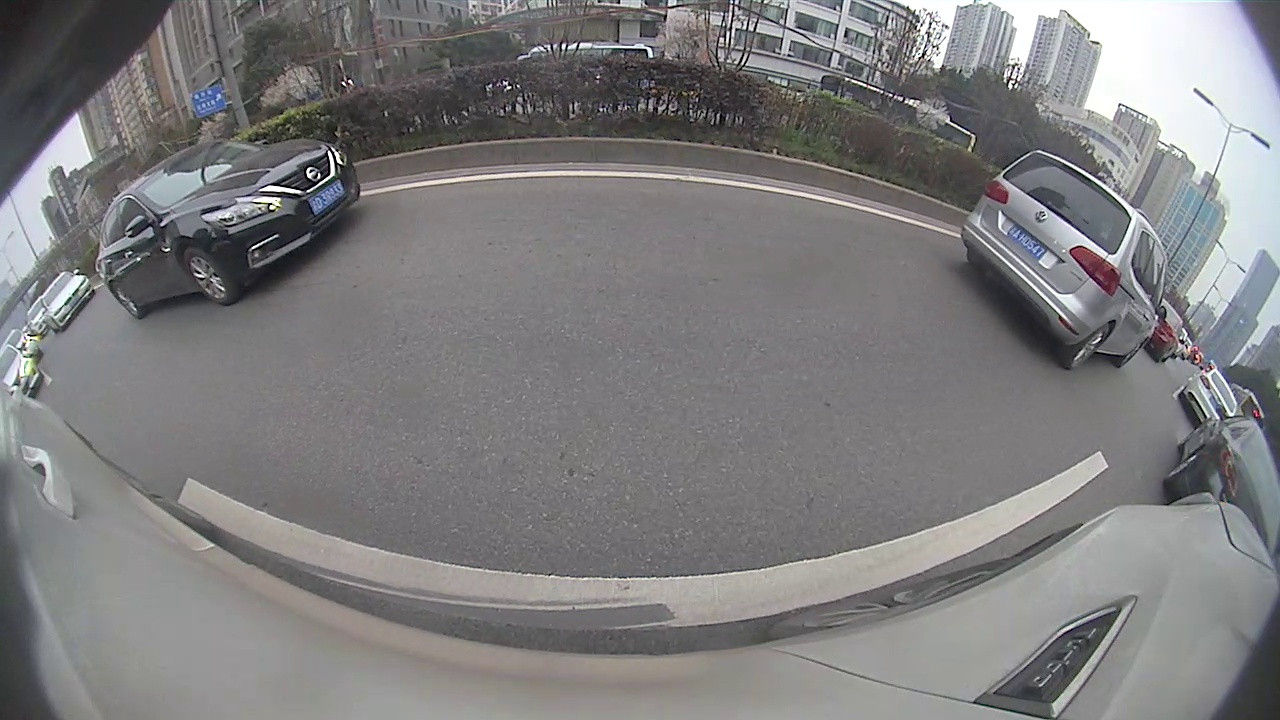car: (39, 179, 370, 445), (746, 120, 944, 249), (390, 165, 474, 223), (1, 339, 42, 434), (627, 156, 661, 185), (663, 162, 680, 178)
front: (96, 341, 134, 410), (749, 184, 763, 212)
rear: (802, 193, 827, 235)
